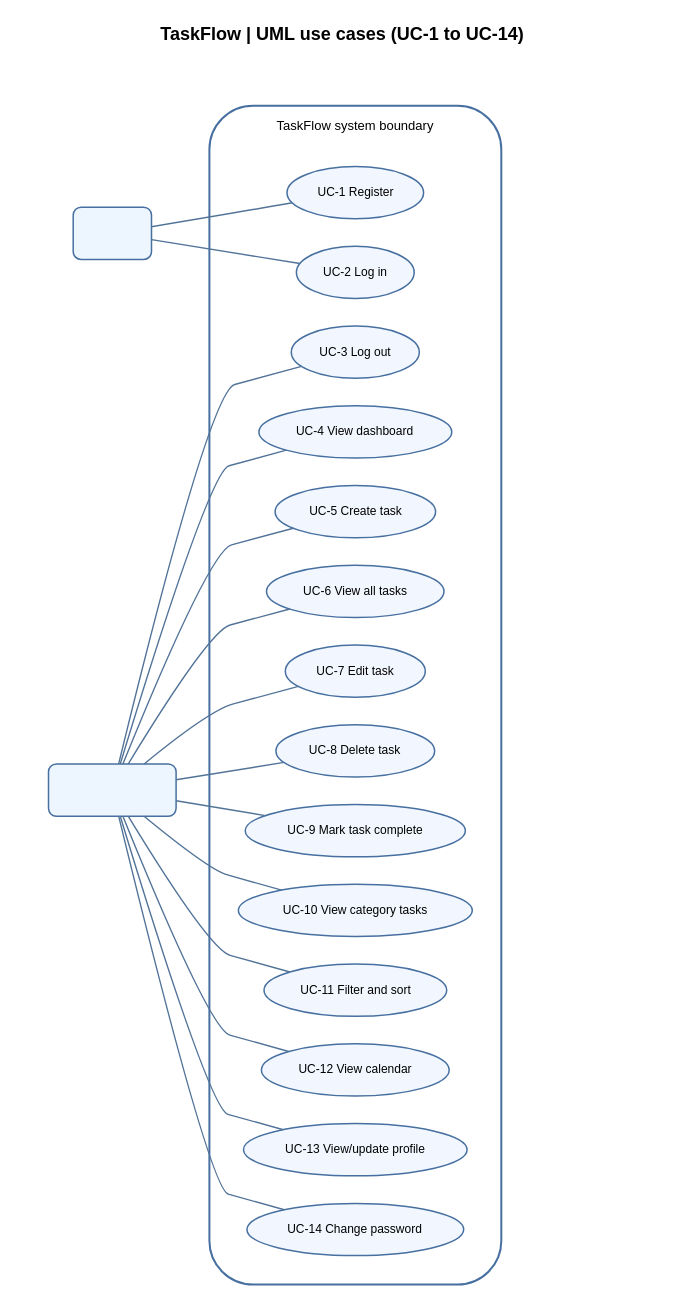
This 684x1302 diagram has some shape labels left out. Each missing label, with the centre of its shape:
«actor» Guest: [112,233]
«actor» Registered User: [111,789]
